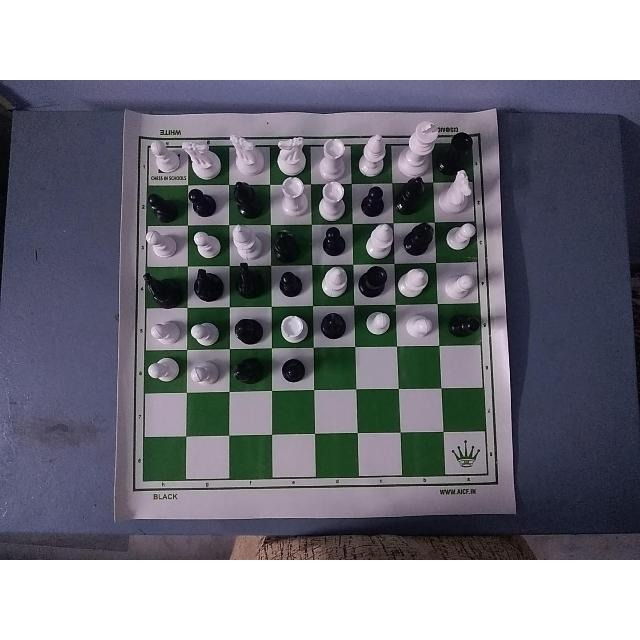black-bishop: (315, 304, 359, 348), (269, 224, 309, 263), (231, 351, 269, 389), (398, 173, 434, 211), (233, 308, 267, 348), (230, 181, 266, 218), (407, 219, 438, 259)
black-knight: (140, 267, 181, 305), (229, 261, 266, 302), (191, 263, 223, 305)
black-pawn: (439, 304, 481, 344), (354, 177, 390, 217), (142, 188, 180, 224), (187, 186, 225, 222), (279, 347, 311, 389), (272, 267, 306, 300), (316, 224, 346, 260)
black-rook: (356, 260, 392, 298), (445, 129, 477, 165)
white-bishop: (356, 222, 400, 257), (230, 221, 266, 261), (357, 130, 387, 176), (399, 263, 431, 299), (318, 265, 350, 299)
white-king: (396, 119, 439, 175)
white-knight: (183, 138, 218, 184), (233, 133, 265, 179), (273, 133, 311, 171), (440, 169, 474, 211)
white-pawn: (441, 260, 481, 303), (144, 136, 181, 176), (142, 229, 180, 263), (146, 353, 183, 387), (359, 303, 395, 337), (442, 218, 476, 254), (188, 313, 224, 346), (190, 351, 222, 387), (403, 305, 435, 341), (147, 313, 182, 345), (189, 230, 224, 260)
white-rook: (275, 173, 312, 216), (316, 135, 348, 179), (316, 180, 352, 218), (274, 307, 310, 343)
